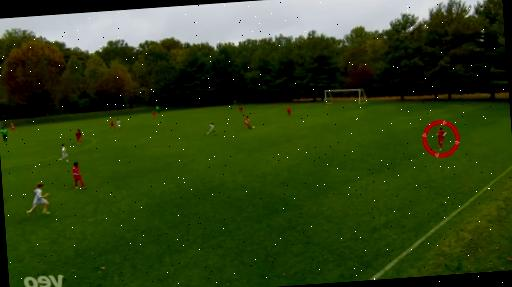highlight_overlay: (422, 118, 460, 158)
